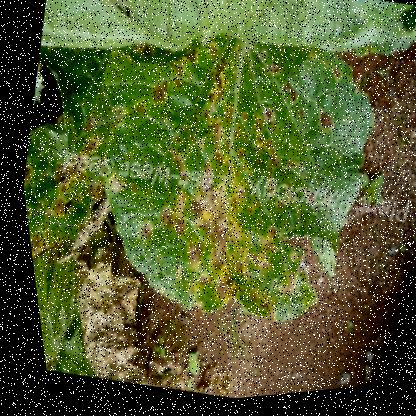Anthracnose: (167, 43, 307, 191), (135, 179, 248, 293), (140, 76, 174, 114), (309, 113, 335, 143)
